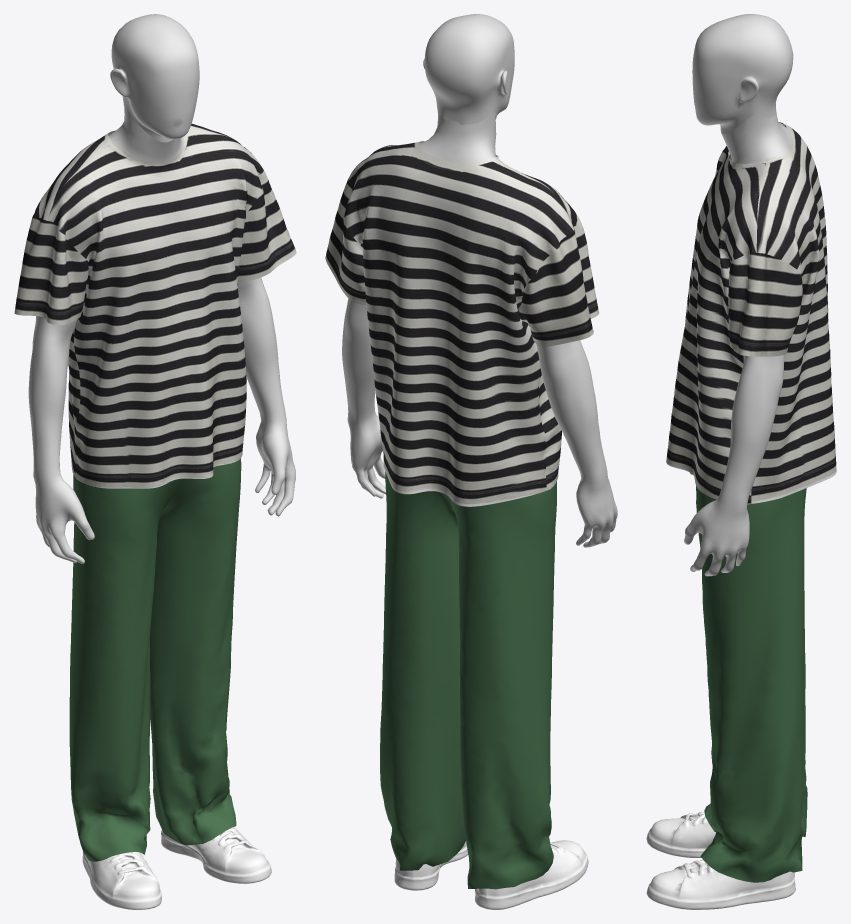
3 views of the same model, side by side, from view 1: azimuth 30°, elevation 25°; view 2: azimuth 150°, elevation 25°; view 3: azimuth 270°, elevation 25° (orthographic). The views are drawn at different scales.
Visible parts, largest first — view 1: tshirt_3, body_3_0, shoes_r_Shape_2, shoes_l_Shape_1; view 2: tshirt_3, body_3_0, shoes_r_Shape_2, shoes_l_Shape_1; view 3: tshirt_3, body_3_0, shoes_l_Shape_1, shoes_r_Shape_2.
Boxes of the visible parts, x1,y1,x2,y2 form: tshirt_3: (14,123,296,861); body_3_0: (28,14,295,563); shoes_r_Shape_2: (82,852,161,909); shoes_l_Shape_1: (161,827,271,883); tshirt_3: (325,141,599,889); body_3_0: (342,14,617,547); shoes_r_Shape_2: (475,840,588,909); shoes_l_Shape_1: (394,841,468,890); tshirt_3: (666,122,836,882); body_3_0: (684,14,793,576); shoes_l_Shape_1: (646,859,795,909); shoes_r_Shape_2: (646,811,715,857).
Bounding box in the file's own units: 0.6357 × 1.9 × 0.3829.
Materials: 3 (1 with a texture image).
